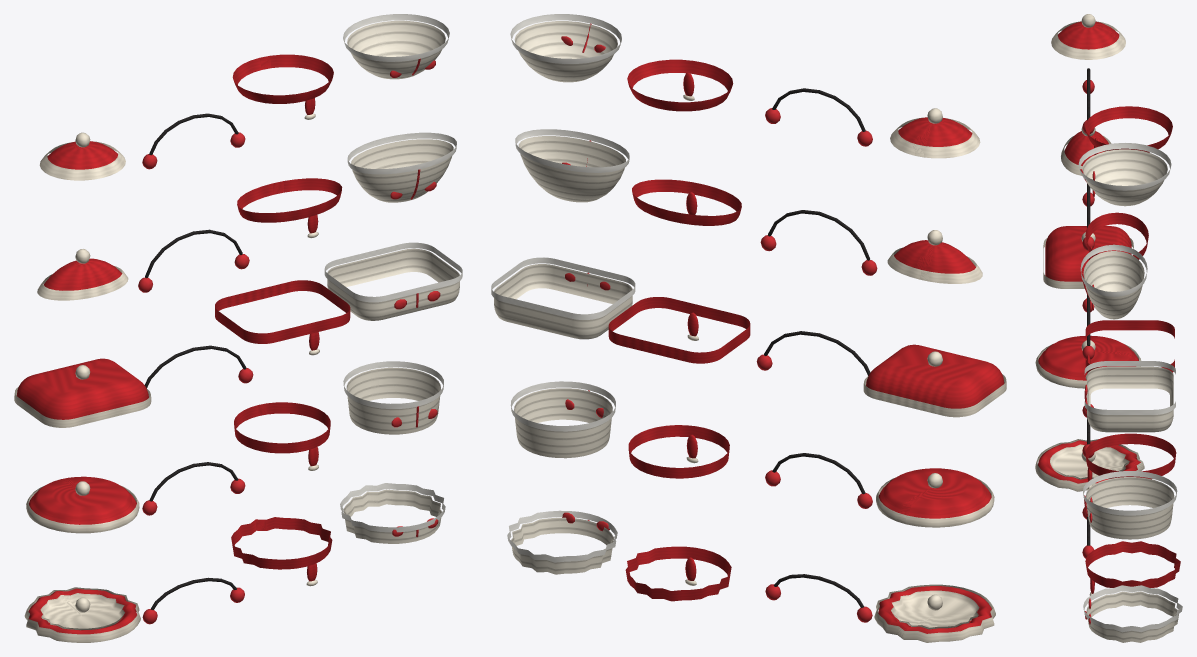
File: accessories-canada.glb
3 views of the same model, side by side, from view 1: azimuth 30°, elevation 25°; view 2: azimuth 150°, elevation 25°; view 3: azimuth 270°, elevation 25° (orthographic). The views are drawn at different scales.
Visible parts, largest first — view 1: Parka-nanaimo, Toque-nanaimo, Parka-doubledouble, Parka-beavertail, Parka-snowbit, Toque-buttertart, Toque-doubledouble, Parka-buttertart, Scarf-nanaimo, Toque-beavertail, Toque-snowbit, Scarf-beavertail (+8 smaller); view 2: Parka-nanaimo, Toque-nanaimo, Parka-doubledouble, Parka-beavertail, Parka-snowbit, Toque-buttertart, Toque-doubledouble, Parka-buttertart, Scarf-nanaimo, Toque-beavertail, Toque-snowbit, Scarf-buttertart (+8 smaller); view 3: Parka-doubledouble, Parka-nanaimo, Parka-snowbit, Parka-beavertail, Parka-buttertart, Toque-buttertart, Toque-nanaimo, Toque-doubledouble, Toque-snowbit, Scarf-buttertart, Scarf-doubledouble, Scarf-snowbit (+7 smaller).
Part boxes in pixels (<box>): Parka-nanaimo: <box>324,242,462,320</box>; Toque-nanaimo: <box>14,358,151,427</box>; Parka-doubledouble: <box>343,361,443,434</box>; Parka-beavertail: <box>347,132,456,202</box>; Parka-snowbit: <box>343,14,449,79</box>; Toque-buttertart: <box>24,587,140,642</box>; Toque-doubledouble: <box>26,476,139,533</box>; Parka-buttertart: <box>340,483,445,543</box>; Scarf-nanaimo: <box>215,280,350,355</box>; Toque-beavertail: <box>37,249,128,300</box>; Toque-snowbit: <box>39,132,125,180</box>; Scarf-beavertail: <box>237,178,342,238</box>; Parka-nanaimo: <box>491,257,635,339</box>; Toque-nanaimo: <box>863,344,1006,417</box>; Parka-doubledouble: <box>510,381,615,458</box>; Parka-beavertail: <box>515,129,629,202</box>; Parka-snowbit: <box>510,14,621,82</box>; Toque-buttertart: <box>874,584,995,642</box>; Toque-doubledouble: <box>876,468,994,527</box>; Parka-buttertart: <box>507,510,617,574</box>; Scarf-nanaimo: <box>608,297,750,363</box>; Toque-beavertail: <box>887,230,982,283</box>; Toque-snowbit: <box>890,108,980,158</box>; Scarf-buttertart: <box>625,546,731,601</box>; Parka-doubledouble: <box>1083,471,1177,539</box>; Parka-nanaimo: <box>1084,361,1175,432</box>; Parka-snowbit: <box>1078,143,1171,206</box>; Parka-beavertail: <box>1080,244,1147,319</box>; Parka-buttertart: <box>1083,585,1182,642</box>; Toque-buttertart: <box>1035,439,1144,491</box>; Toque-nanaimo: <box>1043,226,1133,288</box>; Toque-doubledouble: <box>1035,335,1141,388</box>; Toque-snowbit: <box>1051,14,1125,59</box>; Scarf-buttertart: <box>1085,541,1180,595</box>; Scarf-doubledouble: <box>1085,433,1176,488</box>; Scarf-snowbit: <box>1085,106,1172,155</box>.
Bounding box in the file's own units: 0.198 × 0.2206 × 0.0616.
Materials: 1 (1 with a texture image).
